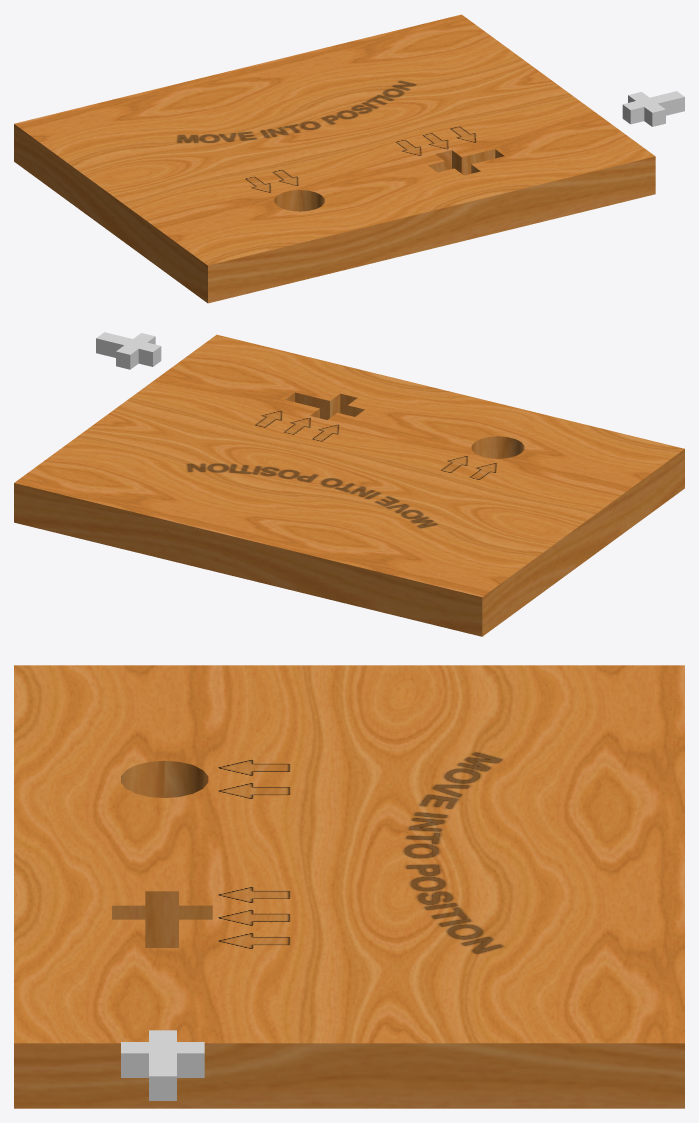
Rendered from positionUserStudy.FBX.
3 views of the same model, one above another, from view 1: azimuth 30°, elevation 25°; view 2: azimuth 150°, elevation 25°; view 3: azimuth 270°, elevation 25° (orthographic). The views are drawn at different scales.
Parts seen in each view (by area): view 1: positionTaskGround, positionTaskCross; view 2: positionTaskGround, positionTaskCross; view 3: positionTaskGround, positionTaskCross.
Boxes of the visible parts, x1,y1,x2,y2 form: positionTaskGround: (14,14,655,303); positionTaskCross: (622,91,684,126); positionTaskGround: (14,334,684,636); positionTaskCross: (96,332,161,369); positionTaskGround: (14,665,684,1108); positionTaskCross: (121,1030,204,1100).
Size of the model in its own units: 15.37 by 1.48 by 10.
1 material, 1 textured.
